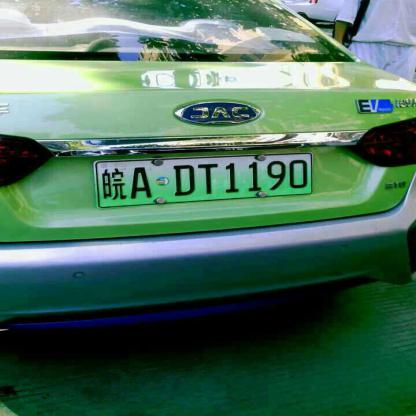lp: (97, 155, 313, 207)
